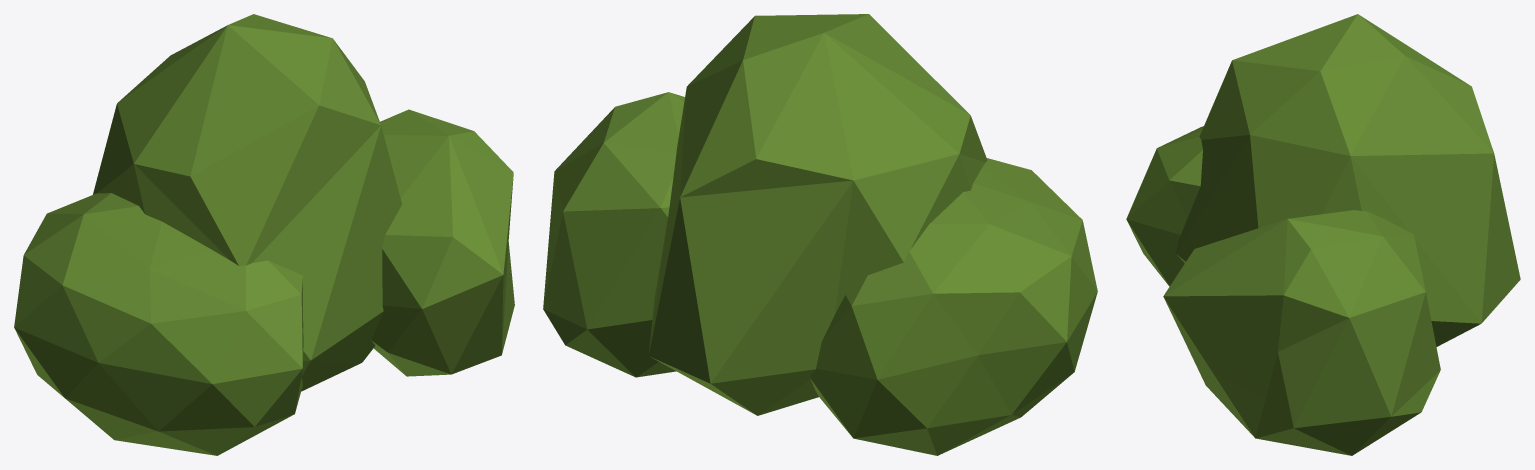
Rendered from cust1.fbx.
The picture shows the model from 3 angles, left to right: view 1: azimuth 30°, elevation 25°; view 2: azimuth 150°, elevation 25°; view 3: azimuth 270°, elevation 25°; orthographic projection. The views are drawn at different scales.
Parts seen in each view (by area): view 1: Icosphere.016; view 2: Icosphere.016; view 3: Icosphere.016.
Boxes of the visible parts, left/top/right/bottom form: Icosphere.016: left=14, top=14, right=514, bottom=455; Icosphere.016: left=543, top=14, right=1097, bottom=455; Icosphere.016: left=1126, top=14, right=1520, bottom=455.
Size of the model in its own units: 357 by 269 by 270.
